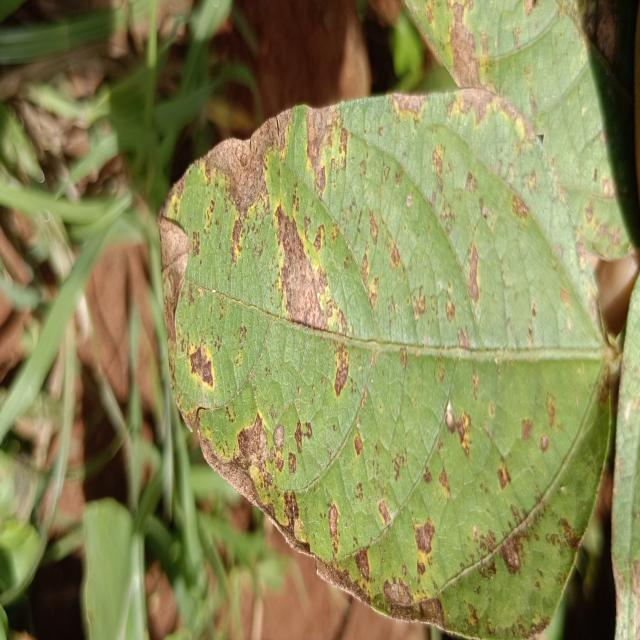Black gram_leaf spot: (156, 82, 618, 640), (404, 0, 640, 261)
